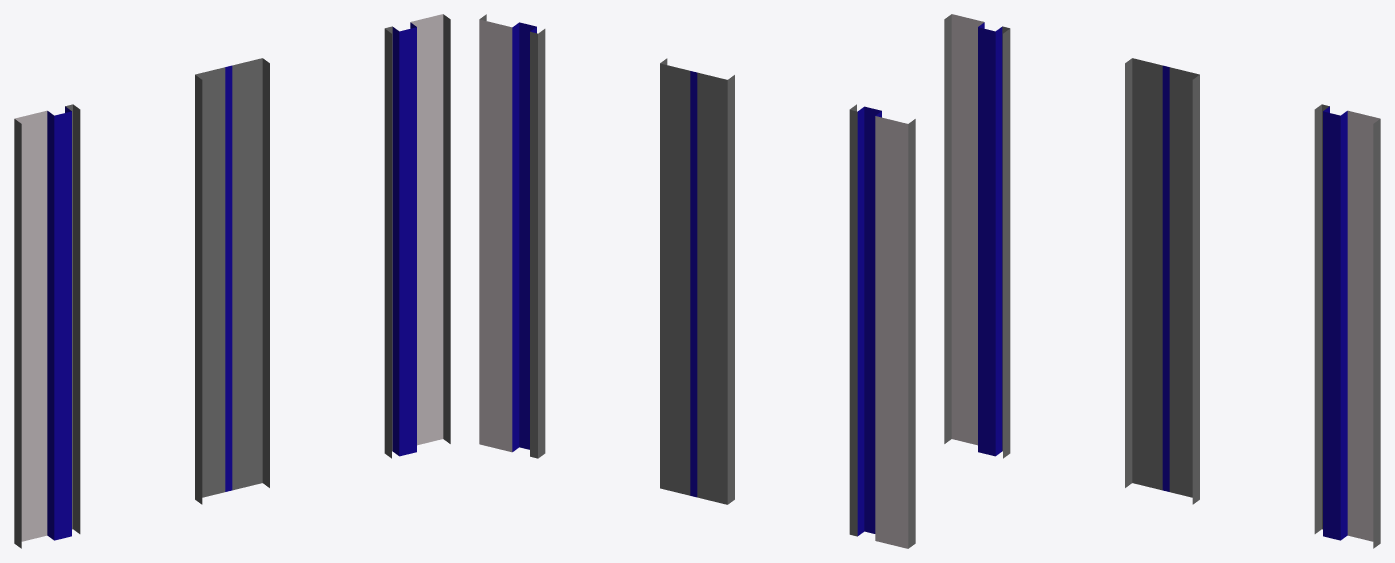
Rendered from CableCar_RailSegment_LOD0.fbx.
3 renders of one model, left to right at view 1: azimuth 30°, elevation 25°; view 2: azimuth 150°, elevation 25°; view 3: azimuth 330°, elevation 25°, orthographic.
Visible parts, largest first — view 1: CableCar_RailSegment_LOD0; view 2: CableCar_RailSegment_LOD0; view 3: CableCar_RailSegment_LOD0.
Part boxes in pixels (box(x1,y1,x2,y2)): CableCar_RailSegment_LOD0: box(14, 14, 450, 548); CableCar_RailSegment_LOD0: box(479, 14, 915, 548); CableCar_RailSegment_LOD0: box(944, 14, 1380, 548).
Bounding box in the file's own units: 1.27 × 1.2 × 0.0375.
